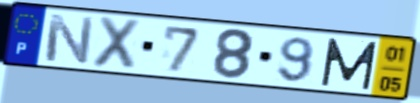7: (161, 24, 202, 73)
8: (210, 27, 256, 81)
9: (274, 35, 321, 84)
M: (319, 36, 381, 92)
N: (42, 12, 96, 67)
X: (88, 14, 144, 73)
